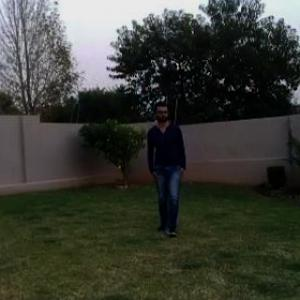follow: (145, 100, 193, 239)
